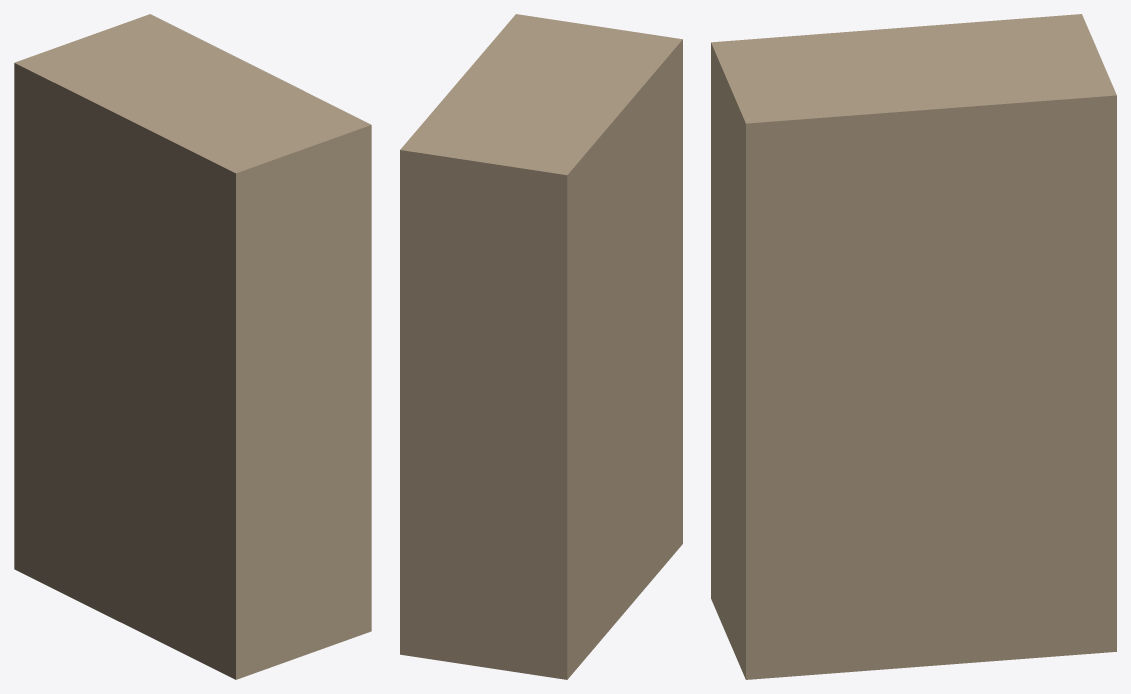
File: bld_106455992.dae
The picture shows the model from 3 angles, left to right: view 1: azimuth 30°, elevation 25°; view 2: azimuth 150°, elevation 25°; view 3: azimuth 270°, elevation 25°; orthographic projection. The views are drawn at different scales.
Visible parts, largest first — view 1: bld_106455992; view 2: bld_106455992; view 3: bld_106455992.
Boxes of the visible parts, box(x1,y1,x2,y2) form: bld_106455992: box(14, 14, 371, 679); bld_106455992: box(400, 14, 682, 679); bld_106455992: box(711, 14, 1116, 679).
Bounding box in the file's own units: 3.38 × 5.29 × 8.
